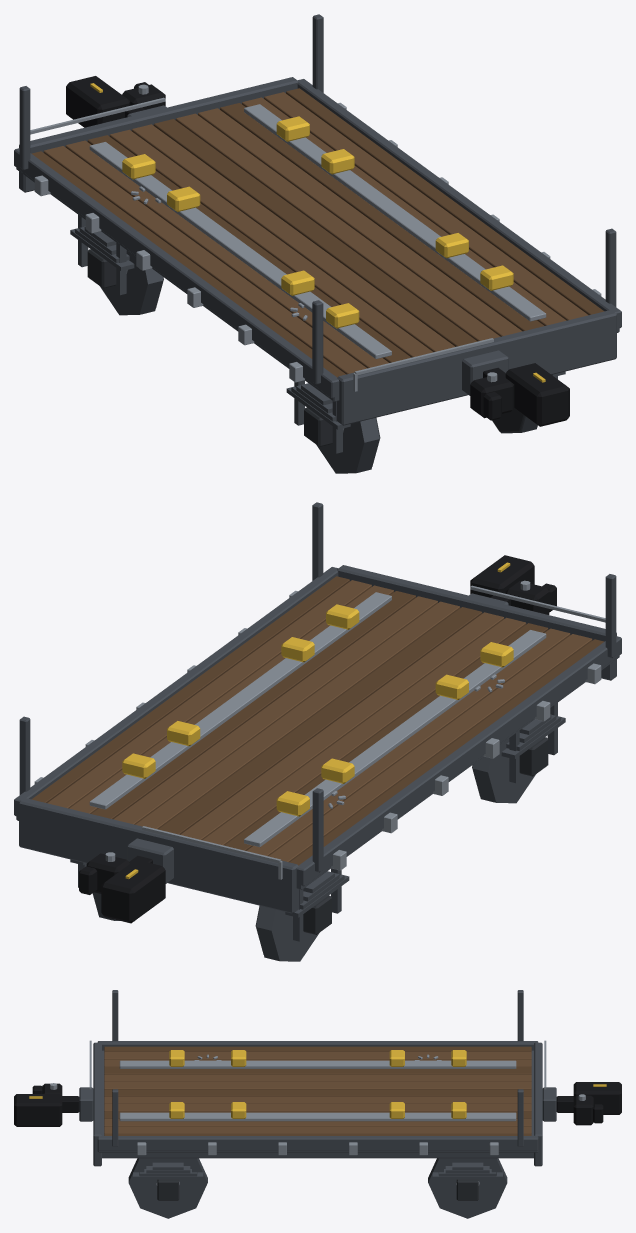
Rendered from wagon_plateforme.glb.
3 renders of one model, top to bottom at view 1: azimuth 30°, elevation 25°; view 2: azimuth 150°, elevation 25°; view 3: azimuth 270°, elevation 25°, orthographic. The views are drawn at different scales.
Visible parts, largest first — view 1: pieces_traverse.002, pieces_acier_sombre.002, pieces_bois_sombre.002, pieces_acier.002, pieces_jaune.002, attelage_av_noir.002, attelage_ar_noir.002, roues_av_acier_sombre.002, roues_ar_acier_sombre.002, pieces_fonte.002, attelage_av_acier_sombre.002; view 2: pieces_traverse.002, pieces_acier_sombre.002, pieces_bois_sombre.002, pieces_acier.002, pieces_jaune.002, attelage_ar_noir.002, attelage_av_noir.002, roues_ar_acier_sombre.002, roues_av_acier_sombre.002, pieces_fonte.002, attelage_ar_acier_sombre.002; view 3: pieces_traverse.002, pieces_acier_sombre.002, pieces_bois_sombre.002, pieces_acier.002, roues_ar_acier_sombre.002, roues_av_acier_sombre.002, attelage_ar_noir.002, pieces_jaune.002, attelage_av_noir.002, pieces_fonte.002, attelage_ar_acier_sombre.002, attelage_av_acier_sombre.002.
Boxes of the visible parts, x1,y1,x2,y2 form: pieces_traverse.002: (43,92,588,374); pieces_acier_sombre.002: (14,14,621,453); pieces_bois_sombre.002: (32,88,604,377); pieces_acier.002: (30,97,601,391); pieces_jaune.002: (122,116,513,328); attelage_av_noir.002: (470,363,569,426); attelage_ar_noir.002: (66,76,165,127); roues_av_acier_sombre.002: (316,416,537,473); roues_ar_acier_sombre.002: (100,250,163,315); pieces_fonte.002: (87,249,332,446); attelage_av_acier_sombre.002: (462,350,508,395); pieces_traverse.002: (47,580,592,862); pieces_acier_sombre.002: (14,502,621,941); pieces_bois_sombre.002: (31,576,603,865); pieces_acier.002: (34,585,605,879); pieces_jaune.002: (122,604,513,816); attelage_ar_noir.002: (79,853,165,923); attelage_av_noir.002: (470,555,556,614); roues_ar_acier_sombre.002: (92,892,319,961); roues_av_acier_sombre.002: (472,738,535,803); pieces_fonte.002: (303,737,548,934); attelage_ar_acier_sombre.002: (127,838,173,883); pieces_traverse.002: (104,1052,531,1133); pieces_acier_sombre.002: (93,990,542,1197); pieces_bois_sombre.002: (104,1046,531,1135); pieces_acier.002: (89,1040,546,1155); roues_ar_acier_sombre.002: (428,1158,507,1218); roues_av_acier_sombre.002: (128,1158,207,1218); attelage_ar_noir.002: (556,1082,621,1125); pieces_jaune.002: (169,1050,466,1118); attelage_av_noir.002: (14,1083,79,1126); pieces_fonte.002: (157,1179,478,1200); attelage_ar_acier_sombre.002: (542,1087,556,1121); attelage_av_acier_sombre.002: (79,1087,93,1121).
Bounding box in the file's own units: 2.78 × 1.85 × 6.9.
